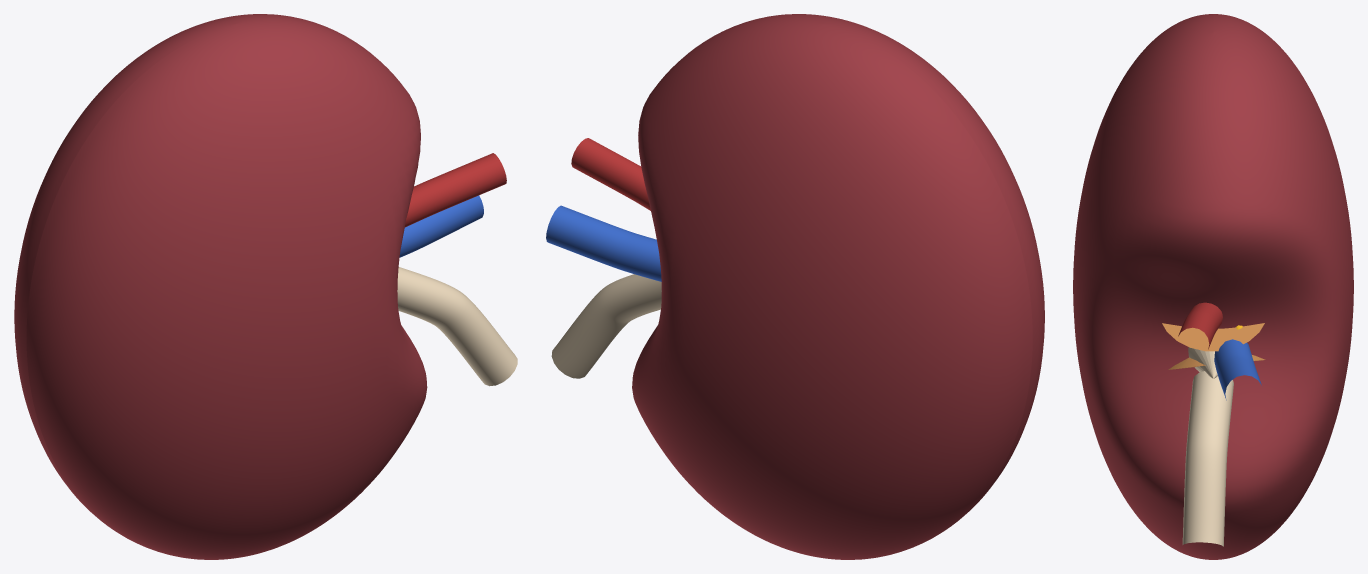
File: kidney.glb
3 renders of one model, left to right at view 1: azimuth 30°, elevation 25°; view 2: azimuth 150°, elevation 25°; view 3: azimuth 270°, elevation 25°, orthographic. The views are drawn at different scales.
Visible parts, largest first — view 1: KidneyOuter, Ureter, RenalArtery, RenalVein; view 2: KidneyOuter, Ureter, RenalVein, RenalArtery; view 3: KidneyOuter, Ureter, RenalPyramid_4, RenalVein, RenalArtery, RenalPelvis.
Part boxes in pixels (bbox=[...]): KidneyOuter: bbox=[14, 14, 427, 559]; Ureter: bbox=[397, 267, 517, 386]; RenalArtery: bbox=[405, 153, 506, 227]; RenalVein: bbox=[399, 195, 483, 257]; KidneyOuter: bbox=[632, 14, 1044, 559]; Ureter: bbox=[551, 274, 661, 378]; RenalVein: bbox=[546, 205, 661, 281]; RenalArtery: bbox=[571, 138, 650, 210]; KidneyOuter: bbox=[1073, 14, 1353, 559]; Ureter: bbox=[1182, 371, 1233, 546]; RenalPyramid_4: bbox=[1162, 323, 1264, 351]; RenalVein: bbox=[1214, 339, 1261, 400]; RenalArtery: bbox=[1178, 302, 1222, 349]; RenalPelvis: bbox=[1188, 347, 1217, 378].
Size of the model in its own units: 7.84 by 8.16 by 4.08.
